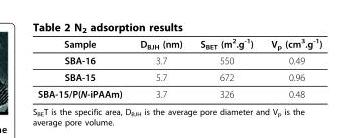table: (37, 36, 321, 99)
table column: (37, 36, 130, 99), (190, 36, 261, 99), (130, 36, 190, 99), (261, 36, 321, 99)
table column header: (37, 36, 321, 52)
table row: (37, 68, 321, 85), (37, 36, 321, 52), (37, 52, 321, 68), (37, 85, 321, 99)
